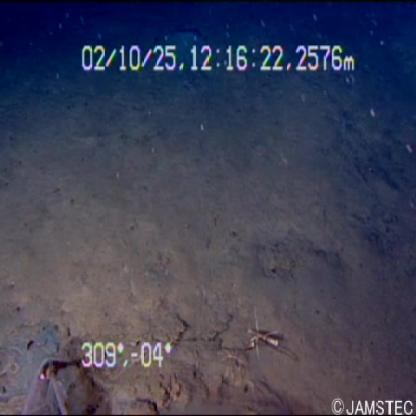Rác: (22, 341, 94, 416)
